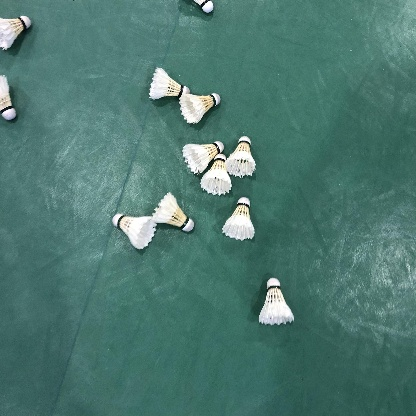ball_single: (151, 192, 194, 232), (259, 277, 294, 326), (112, 214, 158, 250), (222, 197, 255, 241), (182, 141, 224, 174), (149, 67, 190, 100), (200, 154, 232, 196), (225, 136, 256, 178), (179, 93, 221, 124), (0, 16, 31, 50), (0, 75, 16, 120), (194, 0, 214, 13)
